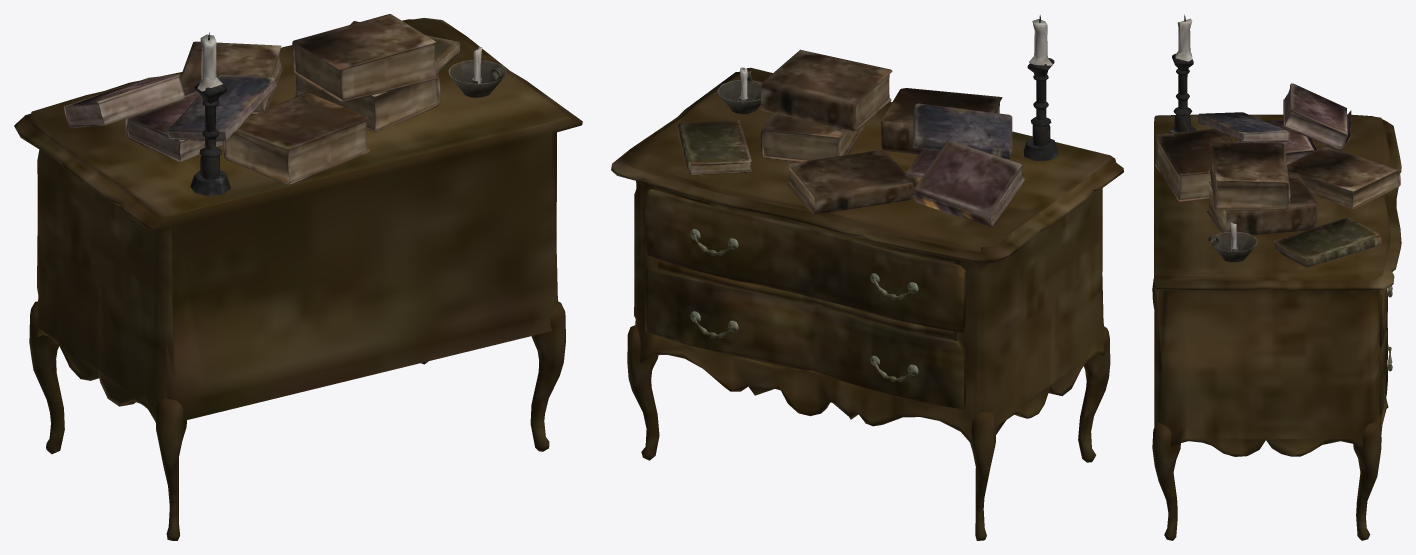
The model's file is AEG228_149-transformed.glb.
The picture shows the model from 3 angles, left to right: view 1: azimuth 30°, elevation 25°; view 2: azimuth 150°, elevation 25°; view 3: azimuth 270°, elevation 25°; orthographic projection. The views are drawn at different scales.
Parts seen in each view (by area): view 1: default; view 2: default; view 3: default.
Part boxes in pixels (<box>): default: <box>14,14,582,540</box>; default: <box>611,15,1123,540</box>; default: <box>1152,14,1401,540</box>.
Bounding box in the file's own units: 1.76 × 1.91 × 1.08.
2 materials, 2 textured.
